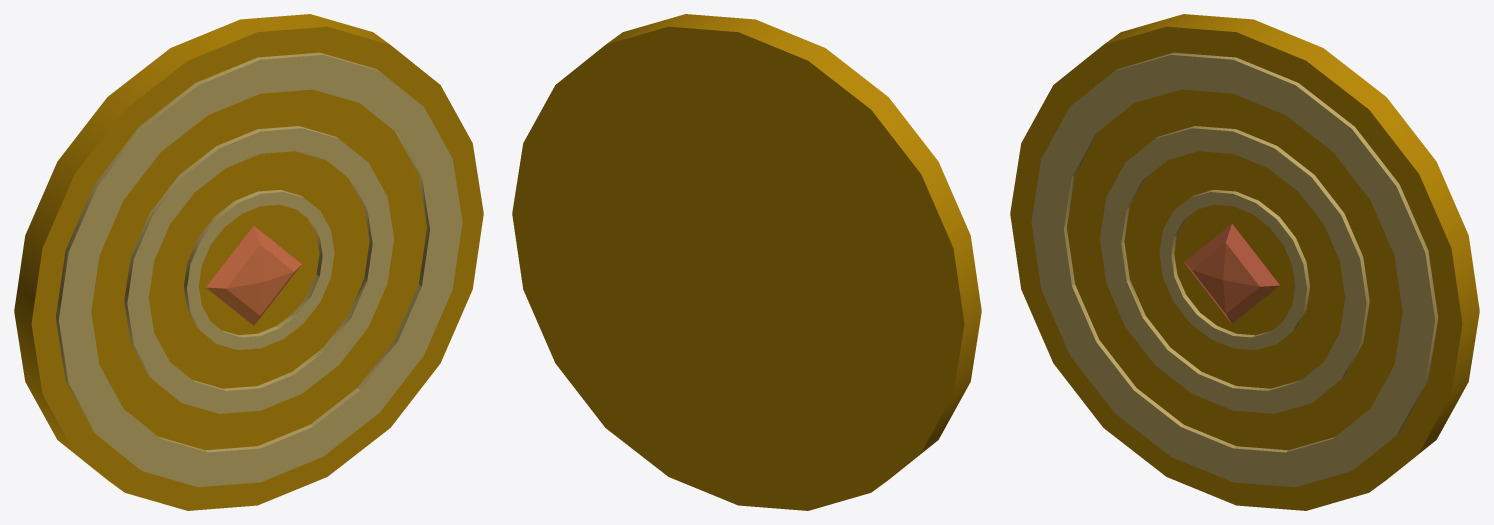
Rendered from sheild 2.fbx.
3 views of the same model, side by side, from view 1: azimuth 30°, elevation 25°; view 2: azimuth 150°, elevation 25°; view 3: azimuth 330°, elevation 25° (orthographic).
Parts seen in each view (by area): view 1: pCylinder7; view 2: pCylinder7; view 3: pCylinder7.
Part boxes in pixels (bbox=[...]): pCylinder7: bbox=[14, 14, 483, 510]; pCylinder7: bbox=[512, 14, 981, 510]; pCylinder7: bbox=[1010, 14, 1479, 510].
Bounding box in the file's own units: 19.07 × 19.07 × 1.93.
